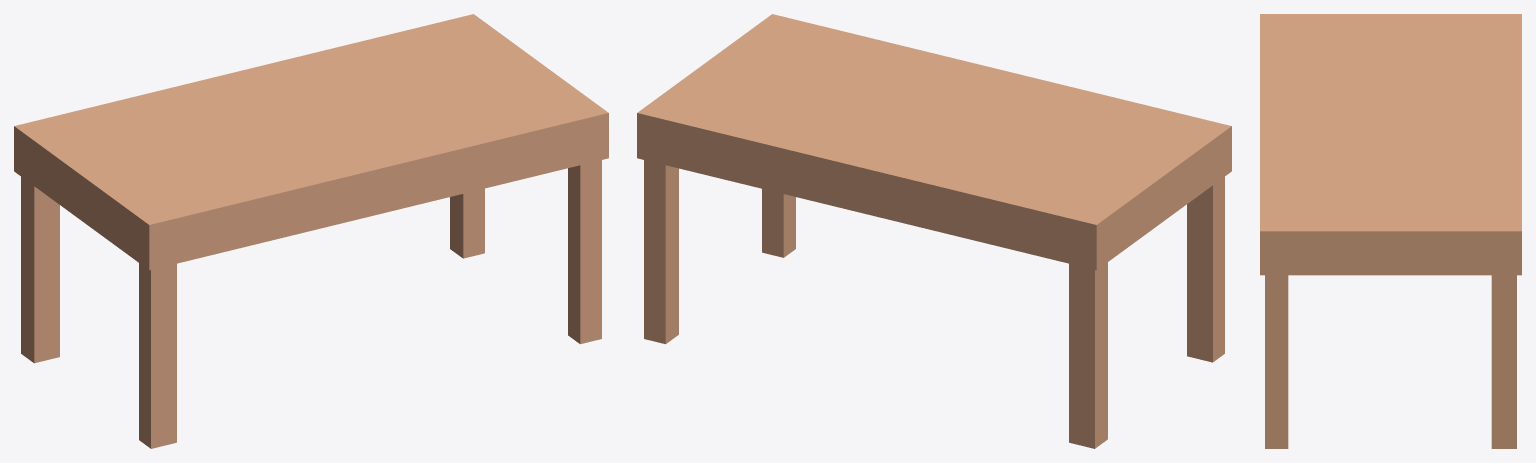
File: CoffeeTable.fbx
3 renders of one model, left to right at view 1: azimuth 30°, elevation 25°; view 2: azimuth 150°, elevation 25°; view 3: azimuth 270°, elevation 25°, orthographic. The views are drawn at different scales.
Parts seen in each view (by area): view 1: Box001; view 2: Box001; view 3: Box001.
Boxes of the visible parts, left/top/right/bottom form: Box001: left=14, top=14, right=608, bottom=448; Box001: left=637, top=14, right=1231, bottom=448; Box001: left=1260, top=14, right=1521, bottom=448.
Bounding box in the file's own units: 106 × 50 × 54.
